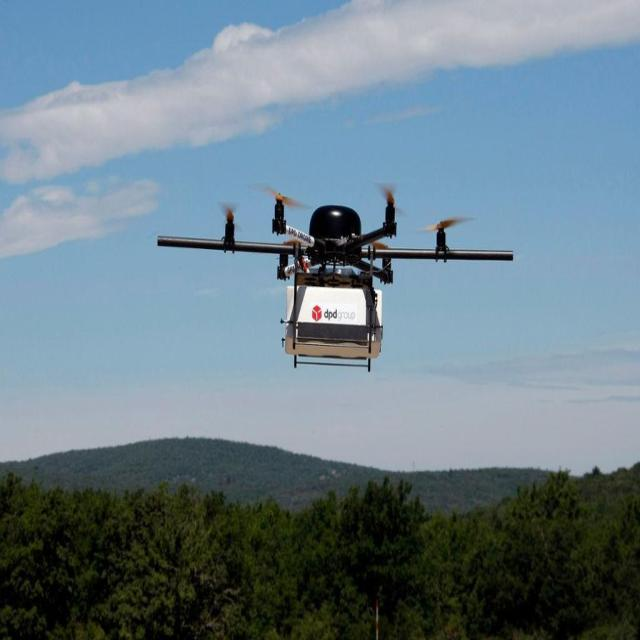drone: (157, 188, 514, 375)
